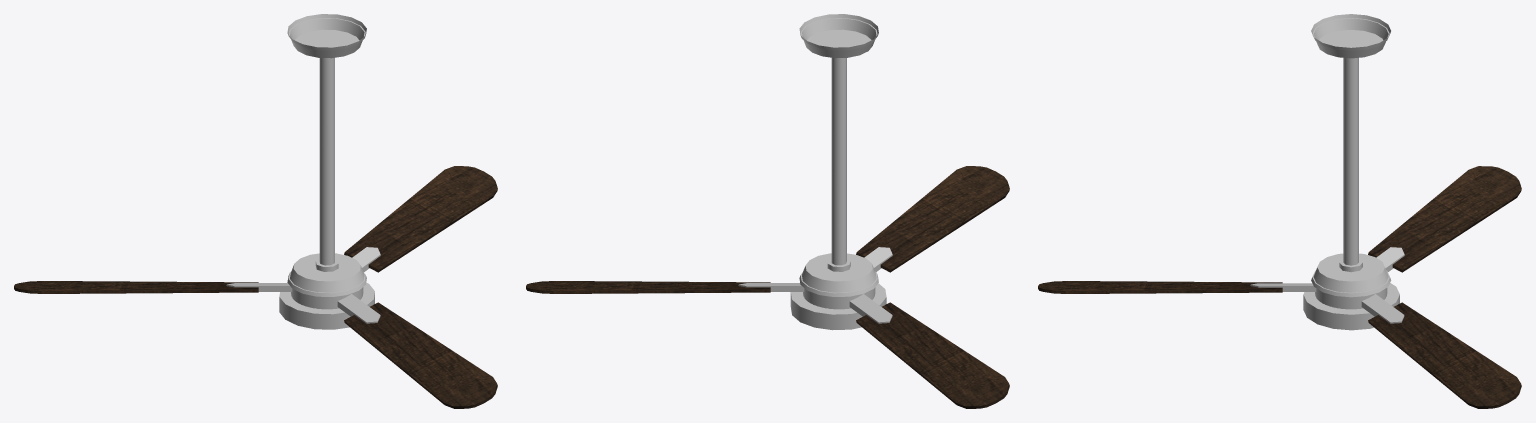
Rendered from ceiling_fan_mp_1.obj.
The picture shows the model from 3 angles, left to right: view 1: azimuth 30°, elevation 25°; view 2: azimuth 150°, elevation 25°; view 3: azimuth 270°, elevation 25°; orthographic projection.
Visible parts, largest first — view 1: ceiling_fan_mp_1_blades, ceiling_fan_mp_1; view 2: ceiling_fan_mp_1_blades, ceiling_fan_mp_1; view 3: ceiling_fan_mp_1_blades, ceiling_fan_mp_1.
Boxes of the visible parts, <box> form: ceiling_fan_mp_1_blades: <box>14,166,497,408</box>; ceiling_fan_mp_1: <box>279,14,374,329</box>; ceiling_fan_mp_1_blades: <box>526,166,1009,408</box>; ceiling_fan_mp_1: <box>790,14,886,330</box>; ceiling_fan_mp_1_blades: <box>1038,166,1521,408</box>; ceiling_fan_mp_1: <box>1303,14,1399,330</box>.
Bounding box in the file's own units: 1.02 × 0.5915 × 0.8979.
